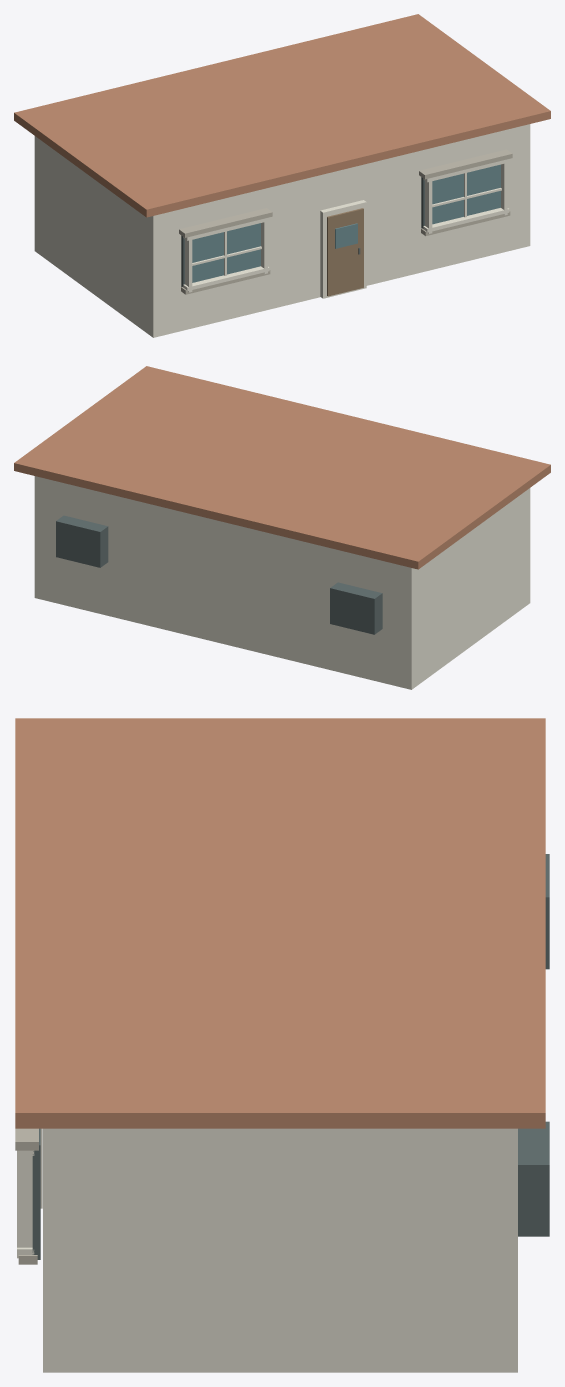
The picture shows the model from 3 angles, top to bottom: view 1: azimuth 30°, elevation 25°; view 2: azimuth 150°, elevation 25°; view 3: azimuth 270°, elevation 25°; orthographic projection. The views are drawn at different scales.
Size of the model in its own units: 11.8 by 3.81 by 6.75.
